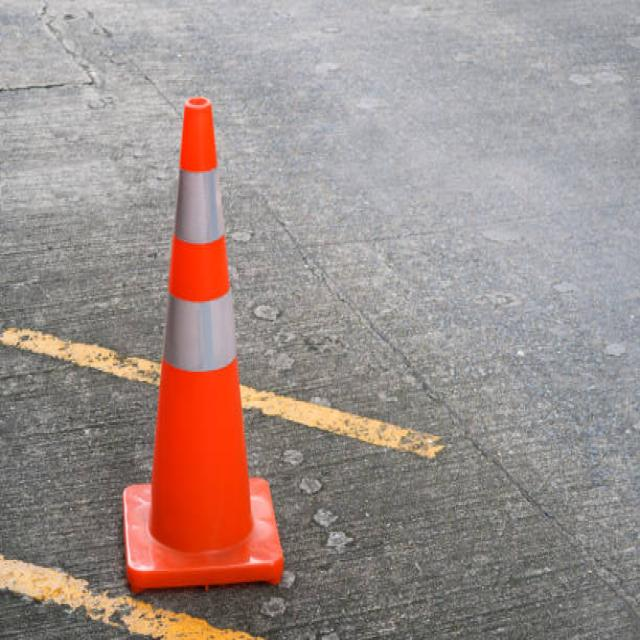Traffic Cone: (79, 8, 341, 640)
